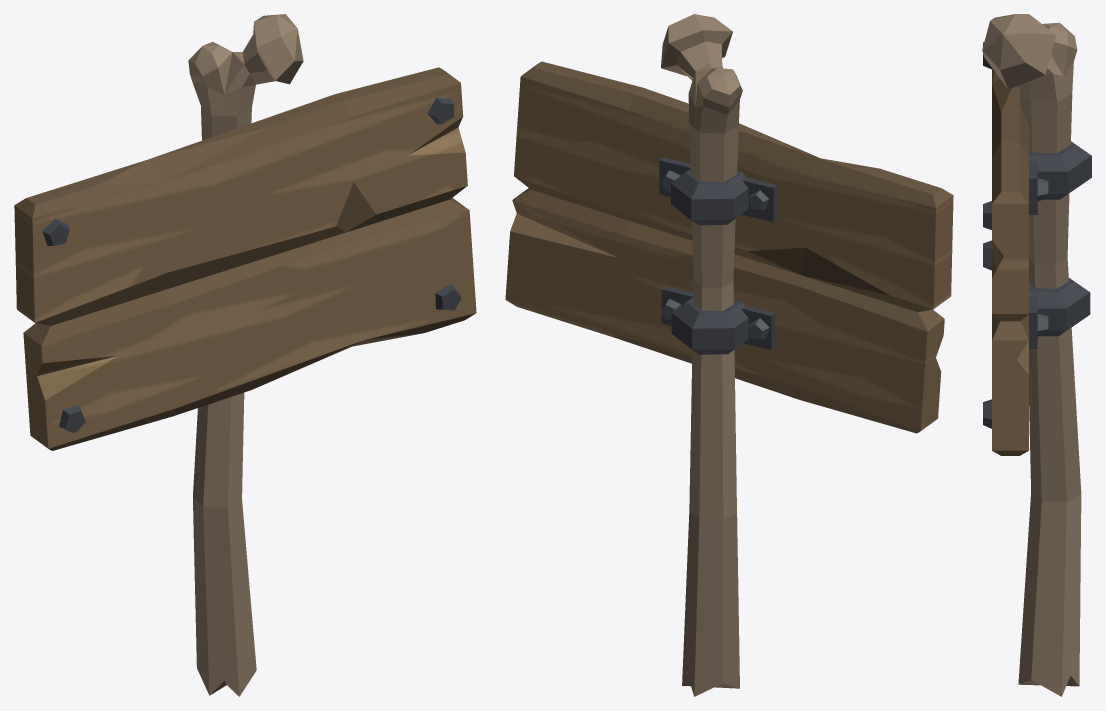
File: SM_Prop_Sign_Post_02.fbx
3 views of the same model, side by side, from view 1: azimuth 30°, elevation 25°; view 2: azimuth 150°, elevation 25°; view 3: azimuth 270°, elevation 25° (orthographic). The views are drawn at different scales.
Visible parts, largest first — view 1: SM_Prop_Sign_Post_02; view 2: SM_Prop_Sign_Post_02; view 3: SM_Prop_Sign_Post_02.
Boxes of the visible parts, x1,y1,x2,y2 form: SM_Prop_Sign_Post_02: [14, 14, 476, 696]; SM_Prop_Sign_Post_02: [505, 14, 953, 696]; SM_Prop_Sign_Post_02: [982, 14, 1091, 696].
Size of the model in its own units: 89.74 by 130 by 18.8.
